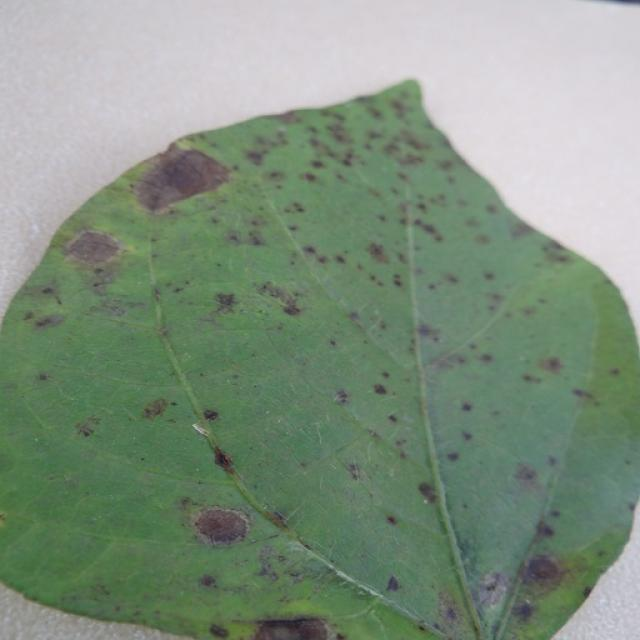Anthracnose: (133, 144, 234, 212), (186, 498, 255, 558), (300, 125, 369, 174), (229, 614, 339, 640), (65, 228, 127, 268), (518, 552, 570, 598), (376, 126, 432, 167), (194, 288, 247, 327), (434, 589, 470, 636), (17, 280, 66, 313), (260, 282, 303, 313), (477, 570, 511, 606), (298, 242, 343, 269), (87, 263, 123, 295), (255, 543, 286, 580), (430, 349, 470, 372), (141, 396, 172, 420), (541, 242, 573, 264), (325, 122, 351, 145), (365, 241, 390, 264), (512, 463, 538, 485), (33, 313, 66, 330), (510, 221, 536, 240), (538, 356, 565, 374), (417, 481, 438, 504), (214, 449, 235, 472), (274, 110, 303, 125), (243, 230, 266, 247), (485, 291, 505, 309), (535, 520, 555, 538), (416, 322, 437, 339), (245, 149, 266, 166), (397, 200, 415, 219), (89, 582, 111, 597), (572, 387, 595, 401), (75, 422, 95, 438), (209, 623, 229, 638), (421, 222, 439, 238), (346, 462, 362, 480), (198, 574, 217, 588), (333, 389, 349, 404), (202, 408, 219, 422), (386, 575, 400, 592), (521, 374, 542, 384), (288, 202, 305, 214), (227, 232, 242, 245), (301, 172, 317, 183), (474, 234, 490, 245), (373, 383, 387, 395), (480, 352, 494, 363), (446, 273, 460, 284), (446, 451, 460, 462), (392, 274, 403, 288), (310, 159, 325, 169), (460, 401, 473, 412), (485, 203, 498, 214), (22, 310, 35, 321), (41, 286, 55, 296), (461, 430, 473, 441), (386, 514, 397, 526), (483, 271, 496, 280), (37, 372, 49, 381), (610, 367, 621, 376), (381, 370, 390, 378)
Blackgram: (0, 81, 639, 639)
